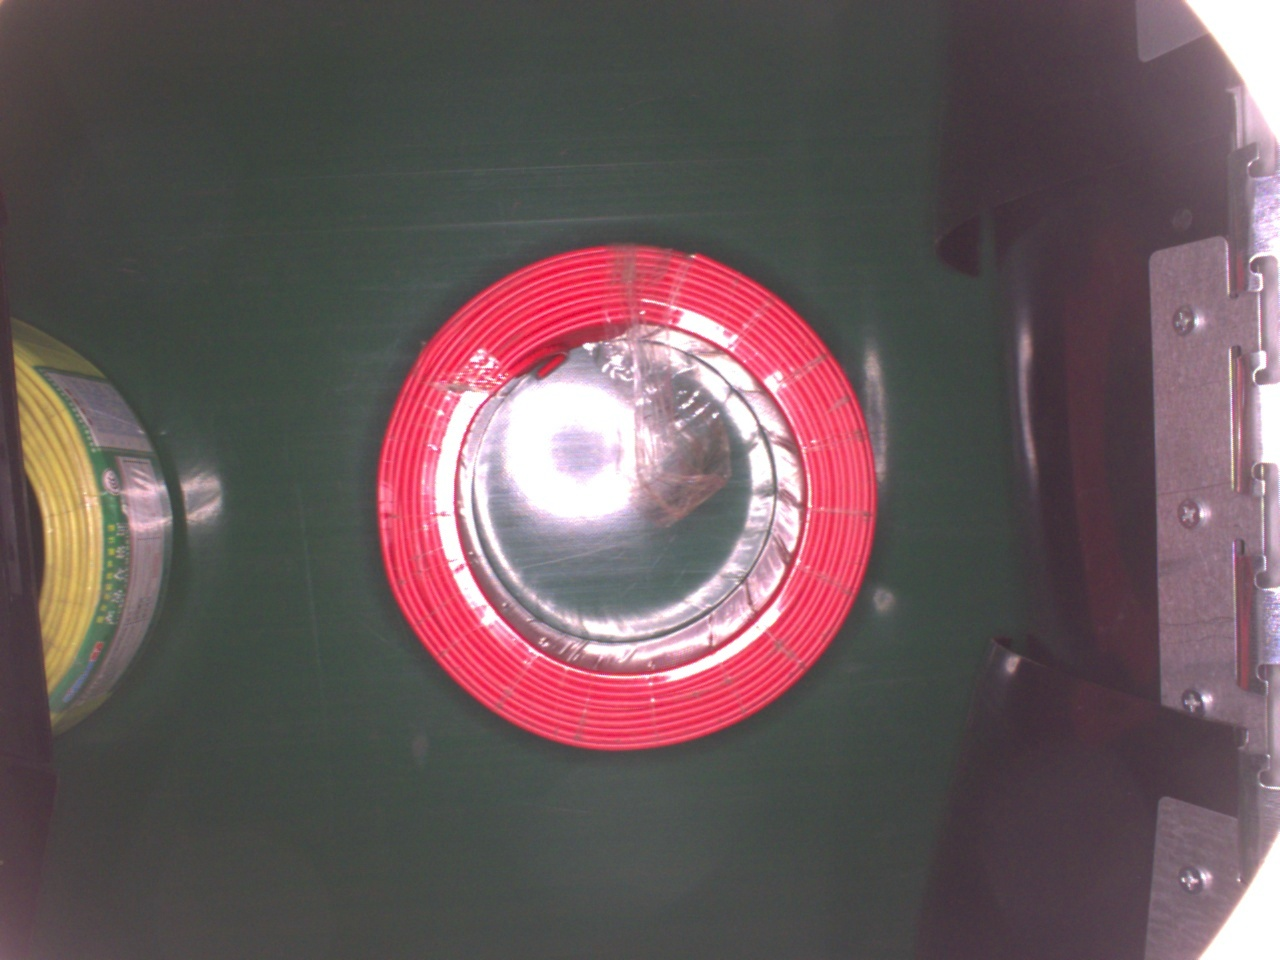red: (371, 239, 874, 753)
yellow: (12, 315, 183, 740)
